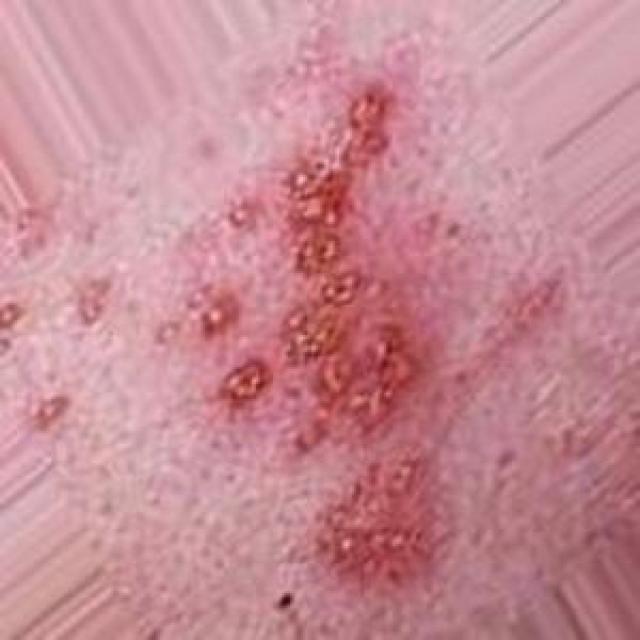Shingles: (188, 78, 438, 580)
